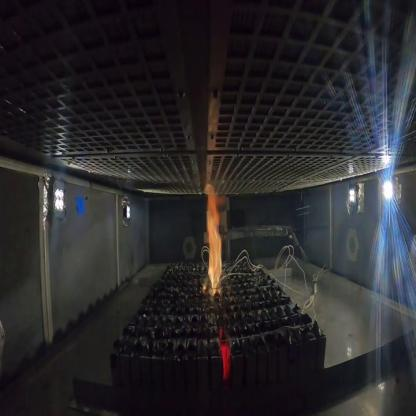fire: (198, 180, 232, 301)
